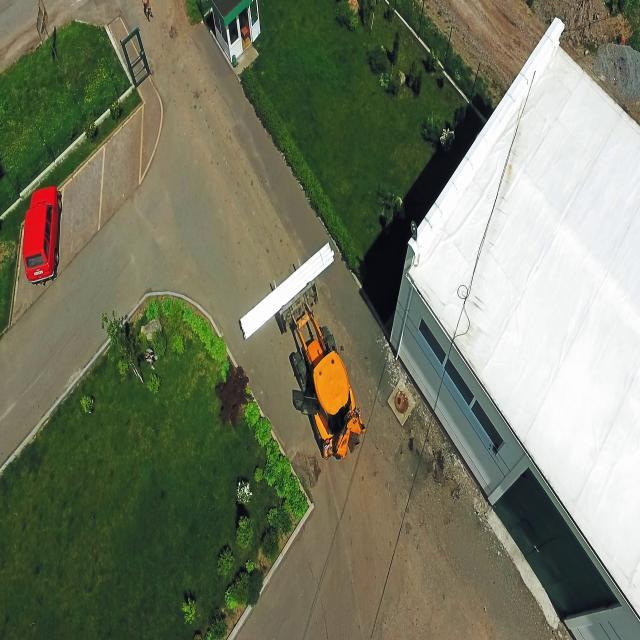vehicle: (239, 239, 367, 462), (22, 185, 62, 285), (144, 347, 158, 370), (142, 0, 154, 22)
